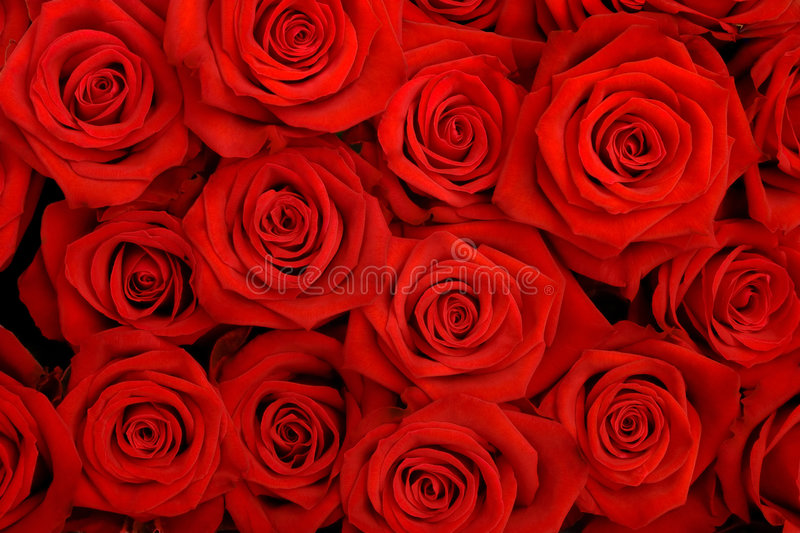RedRose: (522, 47, 721, 261), (198, 142, 379, 330), (13, 9, 181, 204), (184, 0, 387, 149), (24, 208, 223, 356), (70, 345, 242, 514), (562, 339, 709, 521), (372, 233, 546, 383), (391, 54, 524, 250), (356, 410, 554, 532), (635, 239, 798, 376), (254, 340, 343, 527), (2, 379, 74, 521), (752, 34, 800, 230), (738, 389, 800, 528)
